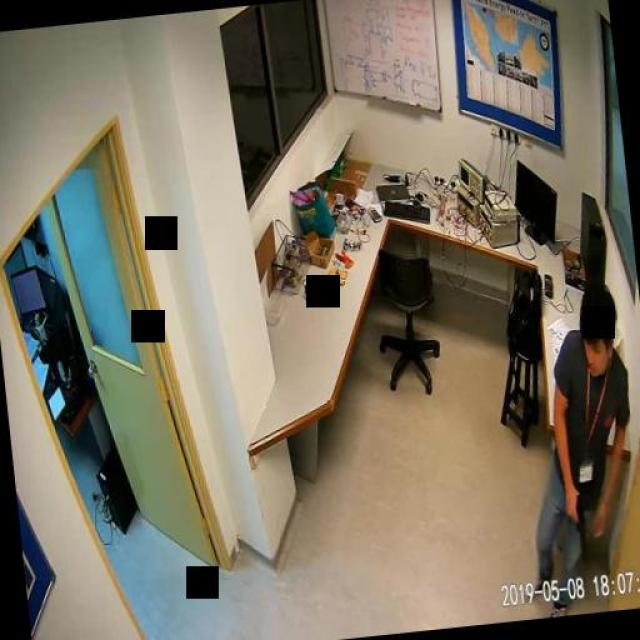gun: (561, 488, 589, 564)
